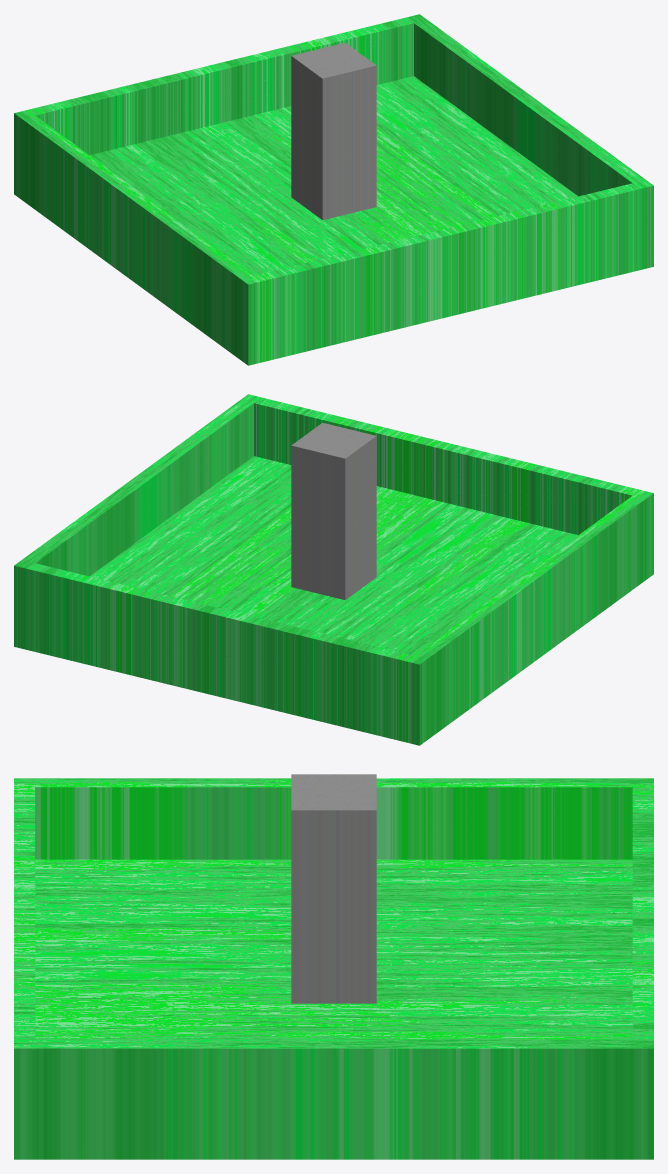
File: ActionBG.FBX
3 views of the same model, one above another, from view 1: azimuth 30°, elevation 25°; view 2: azimuth 150°, elevation 25°; view 3: azimuth 270°, elevation 25° (orthographic). The views are drawn at different scales.
Visible parts, largest first — view 1: GEO_ground; view 2: GEO_ground; view 3: GEO_ground.
Boxes of the visible parts, x1,y1,x2,y2 form: GEO_ground: [14, 14, 653, 365]; GEO_ground: [14, 394, 653, 745]; GEO_ground: [14, 774, 653, 1159].
Bounding box in the file's own units: 3000 × 3000 × 1200.
2 materials, 2 textured.
